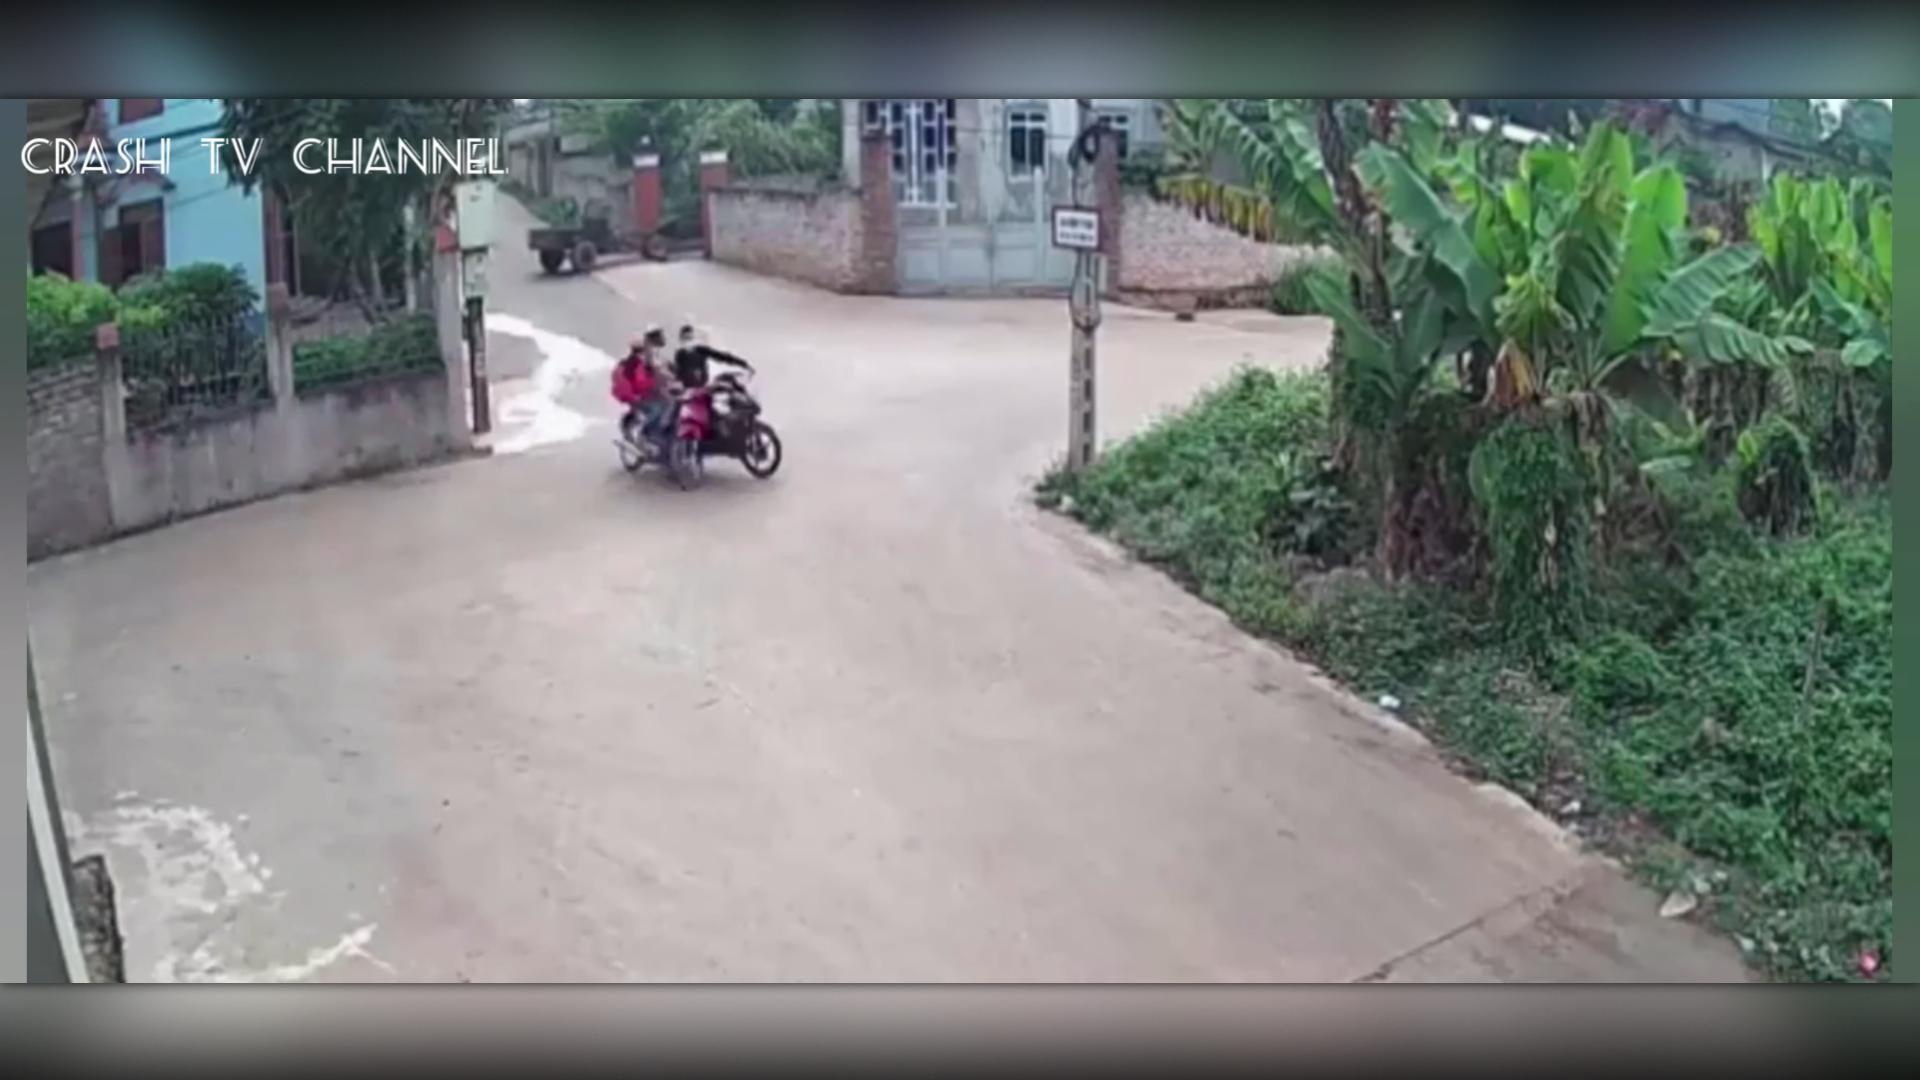accident: (589, 310, 789, 505), (597, 319, 786, 497)
